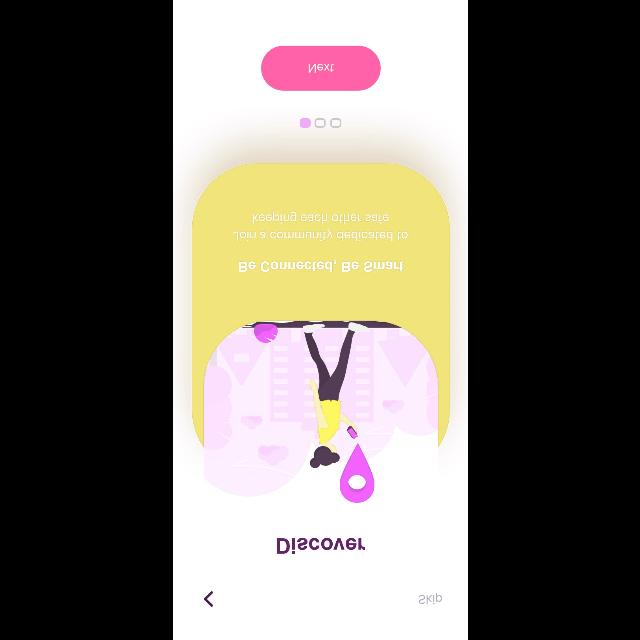icon: (202, 591, 214, 607)
image: (202, 320, 438, 502)
pageindicator: (299, 118, 341, 128)
text: (232, 211, 408, 241), (238, 260, 402, 272), (276, 538, 364, 554), (418, 592, 442, 604)
textbutton: (260, 46, 380, 90)
